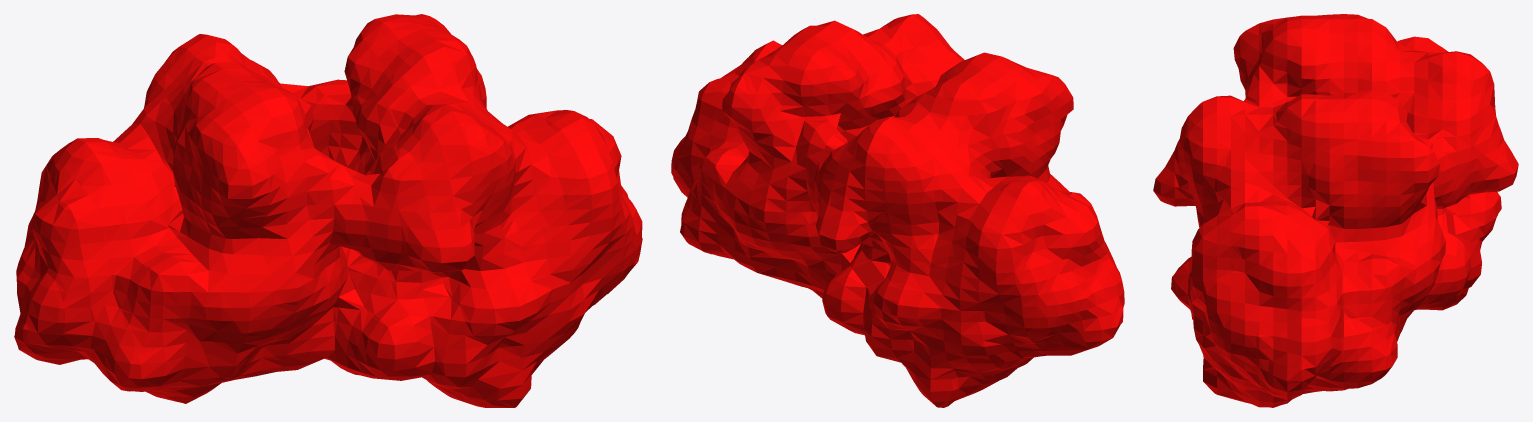
The model's file is entE_coarse.dae.
The picture shows the model from 3 angles, left to right: view 1: azimuth 30°, elevation 25°; view 2: azimuth 150°, elevation 25°; view 3: azimuth 270°, elevation 25°; orthographic projection. The views are drawn at different scales.
Visible parts, largest first — view 1: entE; view 2: entE; view 3: entE.
Part boxes in pixels (x1=…): entE: x1=14, y1=14, x2=642, y2=407; entE: x1=671, y1=14, x2=1124, y2=407; entE: x1=1153, y1=14, x2=1518, y2=407.
Bounding box in the file's own units: 124 × 71.78 × 79.2.
